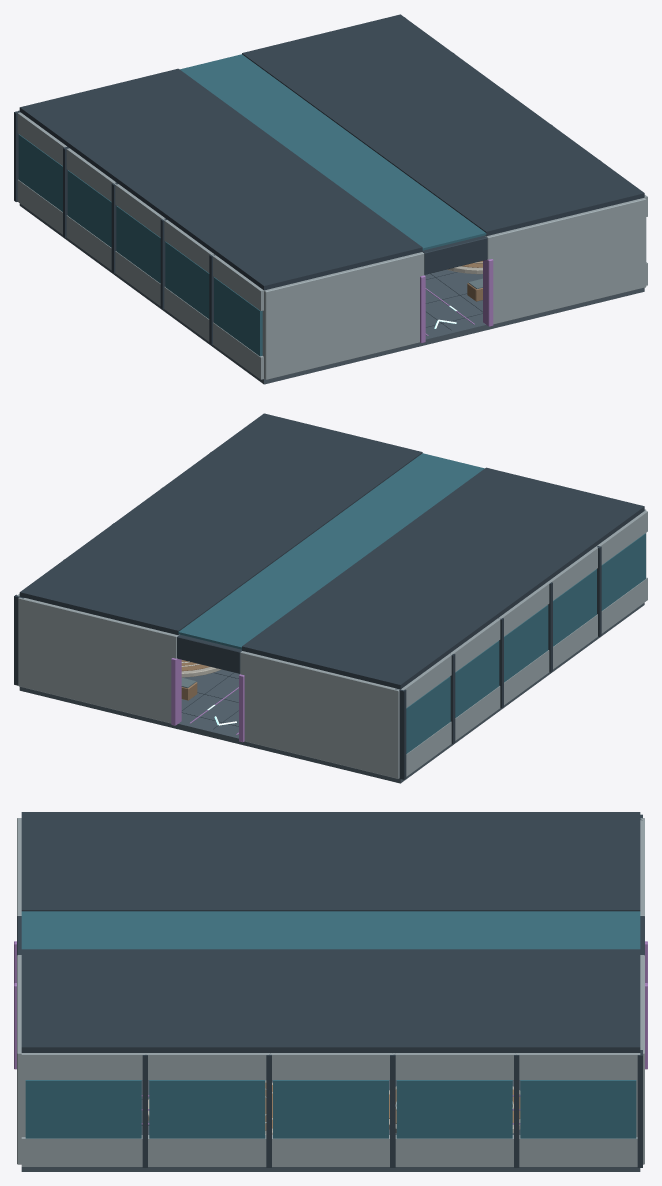
The model's file is isil_sanctuary.glb.
3 renders of one model, top to bottom at view 1: azimuth 30°, elevation 25°; view 2: azimuth 150°, elevation 25°; view 3: azimuth 270°, elevation 25°, orthographic. The views are drawn at different scales.
Visible parts, largest first — view 1: roof-col, front_wall-col, side_walls-col, deck-col; view 2: roof-col, back_wall-col, side_walls-col, deck-col; view 3: roof-col, side_walls-col, deck-col, front_wall-col, back_wall-col.
Boxes of the visible parts, x1,y1,x2,y2 form: roof-col: (19,14,644,290); front_wall-col: (262,198,646,379); side_walls-col: (14,17,647,379); deck-col: (19,203,644,384); roof-col: (19,413,644,689); back_wall-col: (18,597,399,778); side_walls-col: (14,452,647,779); deck-col: (19,603,644,783); roof-col: (21,812,640,1052); side_walls-col: (21,814,642,1167); deck-col: (21,1080,640,1171); front_wall-col: (14,818,25,1164); back_wall-col: (636,818,647,1164).
Size of the model in its own units: 36.9 by 8.9 by 41.
